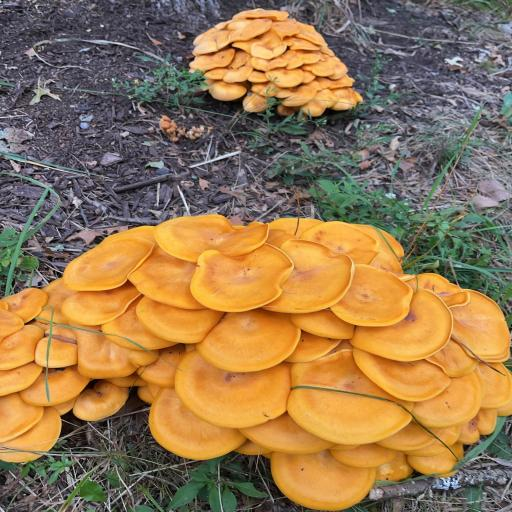Jack O Lantern Mushroom: (60, 213, 512, 512), (0, 267, 114, 464), (186, 7, 377, 121)
